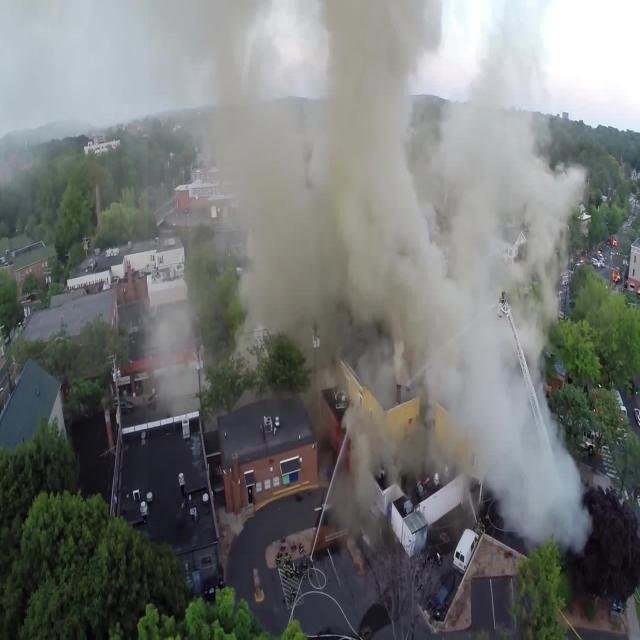Smoke: (148, 0, 593, 555)
